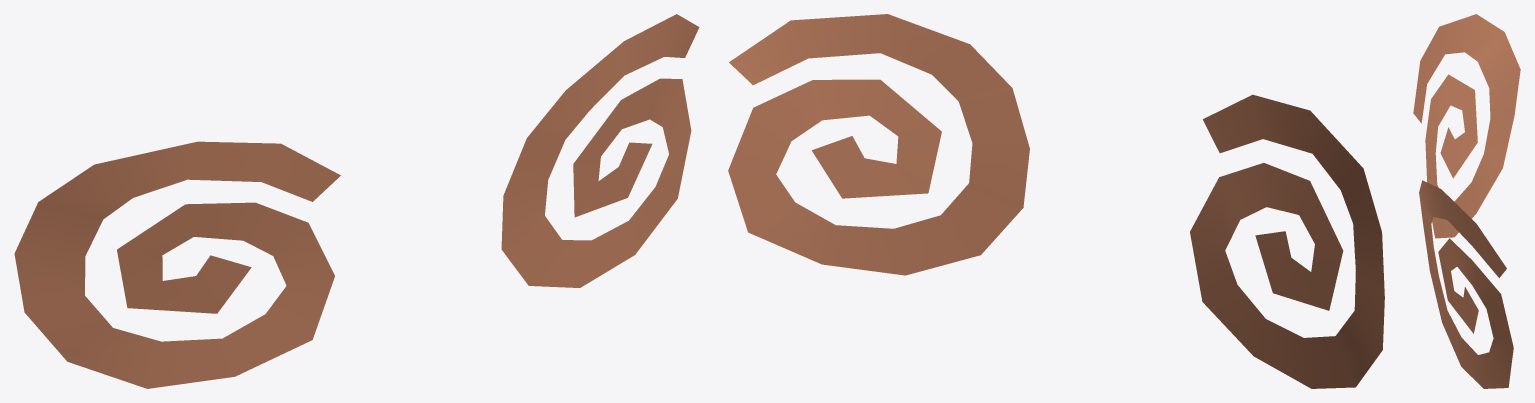
File: Eye_12.fbx
3 views of the same model, side by side, from view 1: azimuth 30°, elevation 25°; view 2: azimuth 150°, elevation 25°; view 3: azimuth 270°, elevation 25° (orthographic). The views are drawn at different scales.
Visible parts, largest first — view 1: Eye_12; view 2: Eye_12; view 3: Eye_12.
Part boxes in pixels (x1=…): Eye_12: x1=14, y1=14, x2=699, y2=388; Eye_12: x1=728, y1=14, x2=1384, y2=388; Eye_12: x1=1413, y1=14, x2=1520, y2=388.
Size of the model in its own units: 33.82 by 12.38 by 6.12.
